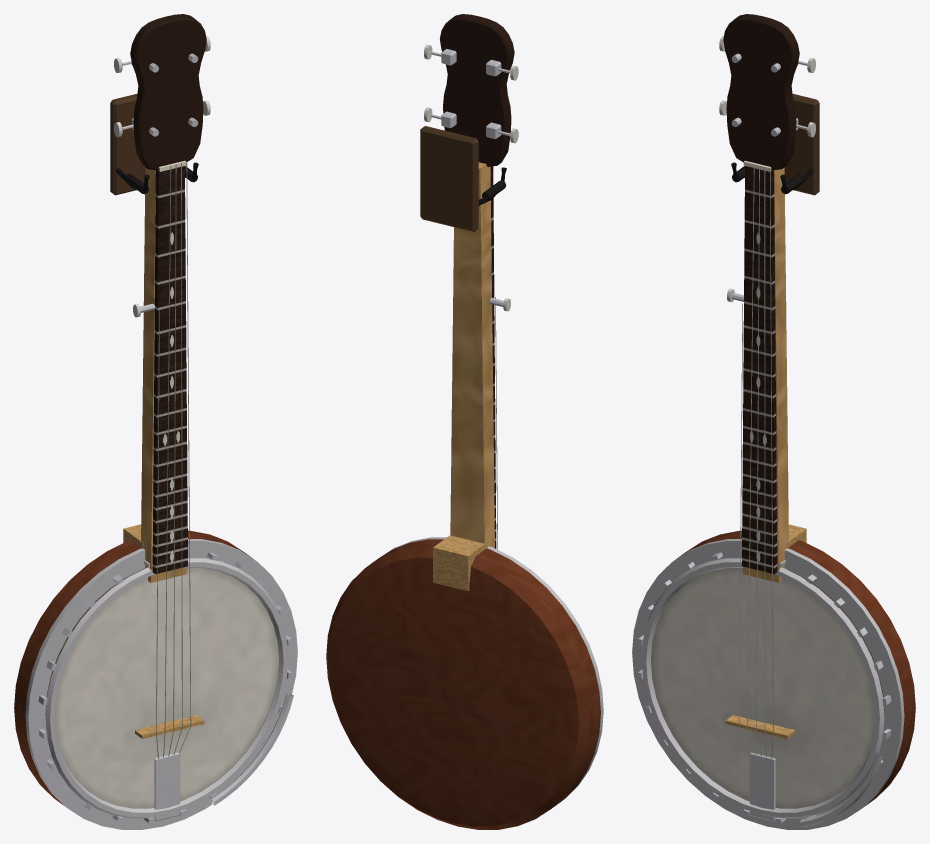
Rendered from banjo.glb.
The picture shows the model from 3 angles, left to right: view 1: azimuth 30°, elevation 25°; view 2: azimuth 150°, elevation 25°; view 3: azimuth 330°, elevation 25°; orthographic projection. The views are drawn at different scales.
Parts seen in each view (by area): view 1: banjo; view 2: banjo; view 3: banjo.
Part boxes in pixels (x1,y1,x2,y2): banjo: (14, 14, 297, 829); banjo: (326, 14, 603, 829); banjo: (632, 14, 915, 829).
Bounding box in the file's own units: 0.33 × 0.95 × 0.0805.
1 material, 1 textured.
